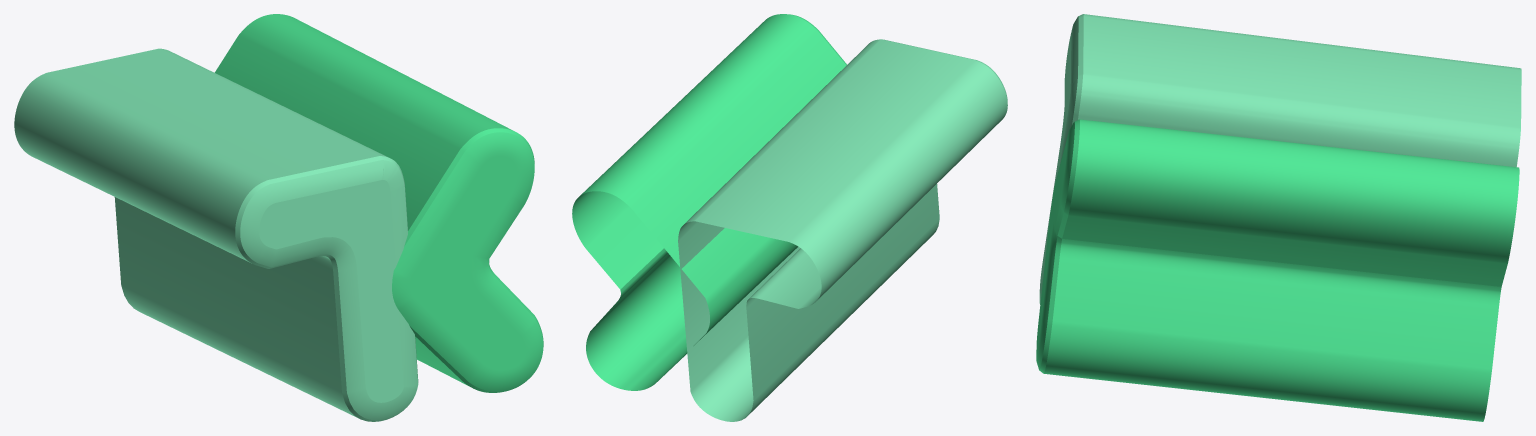
3 views of the same model, side by side, from view 1: azimuth 30°, elevation 25°; view 2: azimuth 150°, elevation 25°; view 3: azimuth 270°, elevation 25° (orthographic). The views are drawn at different scales.
Visible parts, largest first — view 1: NurbsPath.010; view 2: NurbsPath.010; view 3: NurbsPath.010.
Boxes of the visible parts, x1,y1,x2,y2 form: NurbsPath.010: [14, 14, 543, 421]; NurbsPath.010: [572, 14, 1007, 421]; NurbsPath.010: [1036, 14, 1521, 421].
Bounding box in the file's own units: 0.515 × 0.5036 × 0.734.
